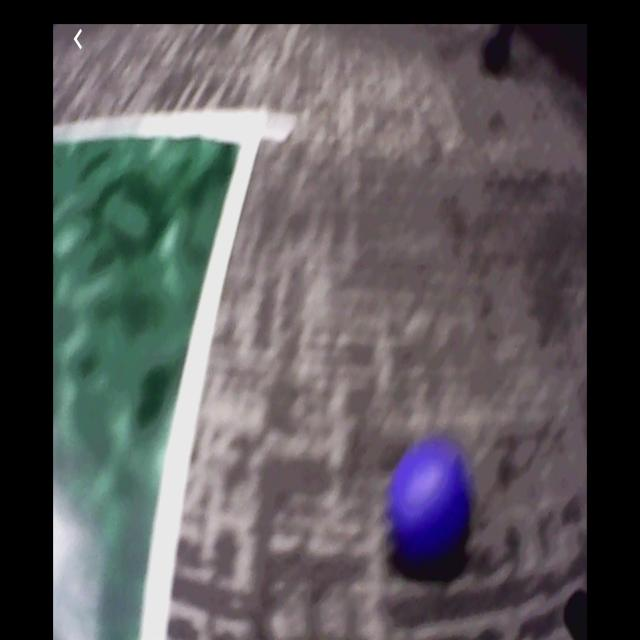ball: (391, 443, 471, 563)
